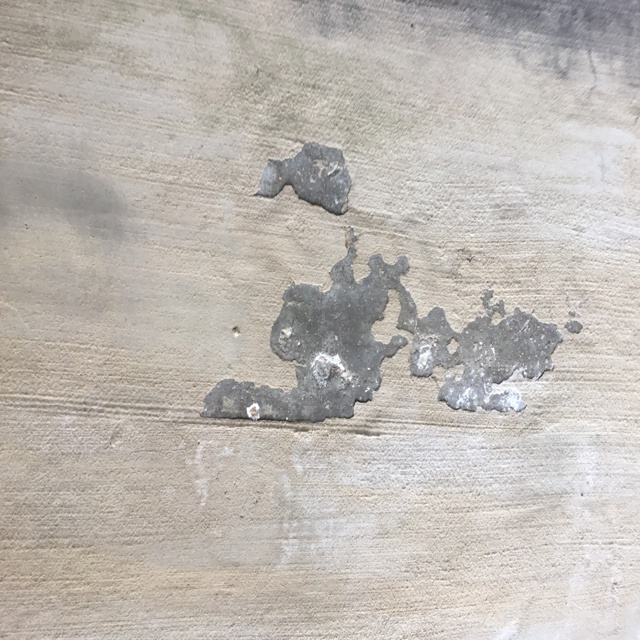spall: (195, 221, 593, 443), (250, 133, 371, 221)
